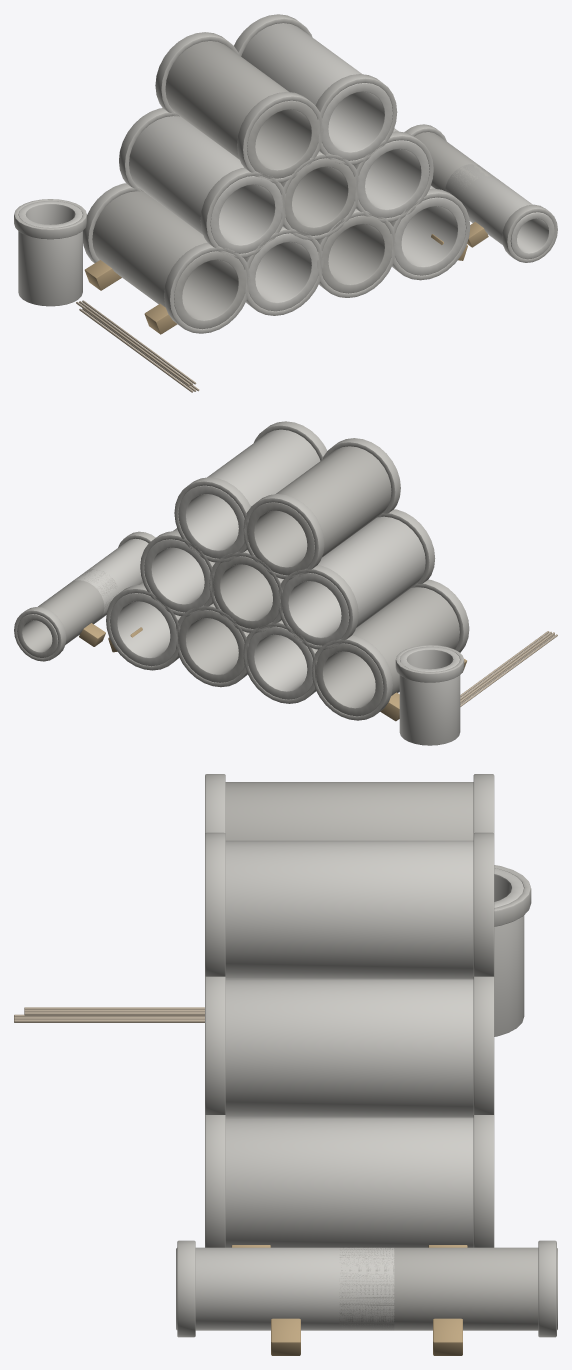
The model's file is th21_betonrohre.glb.
3 views of the same model, one above another, from view 1: azimuth 30°, elevation 25°; view 2: azimuth 150°, elevation 25°; view 3: azimuth 270°, elevation 25° (orthographic). The views are drawn at different scales.
Parts seen in each view (by area): view 1: Rohr.021, Rohr.012, Rohr, Rohr.024, Rohr.031, Rohr.027, Rohr.018, Rohr.009, Rohr.015, Rohr.006, Rohr.003, Rohr.029 (+17 smaller); view 2: Rohr.021, Rohr.012, Rohr, Rohr.024, Rohr.031, Rohr.029, Rohr.018, Rohr.009, Rohr.006, Rohr.003, Rohr.015, Rohr.027 (+16 smaller); view 3: Rohr.024, Rohr.018, Rohr.009, Rohr.027, Rohr.021, Rohr.029, Rohr.031, Rohr.026, Rohr.020, Rohr.025, Rohr.011, Rohr.019 (+10 smaller).
Part boxes in pixels (<box>): Rohr.021: <box>165,41,319,178</box>; Rohr.012: <box>129,116,282,253</box>; Rohr: <box>92,191,246,329</box>; Rohr.024: <box>241,23,392,160</box>; Rohr.031: <box>18,200,82,306</box>; Rohr.027: <box>445,164,554,259</box>; Rohr.018: <box>357,128,429,218</box>; Rohr.009: <box>394,185,465,275</box>; Rohr.015: <box>284,158,355,235</box>; Rohr.006: <box>321,215,392,293</box>; Rohr.003: <box>248,233,318,311</box>; Rohr.029: <box>414,132,497,190</box>; Rohr.021: <box>247,446,391,575</box>; Rohr.012: <box>281,516,425,645</box>; Rohr: <box>315,587,459,716</box>; Rohr.024: <box>178,429,320,558</box>; Rohr.031: <box>399,646,460,745</box>; Rohr.029: <box>17,569,118,657</box>; Rohr.018: <box>144,528,211,612</box>; Rohr.009: <box>110,582,177,666</box>; Rohr.006: <box>179,610,245,682</box>; Rohr.003: <box>247,626,313,699</box>; Rohr.015: <box>213,556,279,628</box>; Rohr.027: <box>74,538,148,620</box>; Rohr.024: <box>225,840,473,979</box>; Rohr.018: <box>225,979,473,1117</box>; Rohr.009: <box>225,1117,473,1247</box>; Rohr.027: <box>176,1247,394,1330</box>; Rohr.021: <box>225,782,473,840</box>; Rohr.029: <box>339,1247,557,1330</box>; Rohr.031: <box>494,868,524,1036</box>; Rohr.026: <box>473,832,494,976</box>; Rohr.020: <box>473,976,494,1114</box>; Rohr.025: <box>205,832,225,976</box>; Rohr.011: <box>473,1115,494,1247</box>; Rohr.019: <box>205,976,225,1114</box>.
Bounding box in the file's own units: 7.56 × 3.42 × 4.7.
